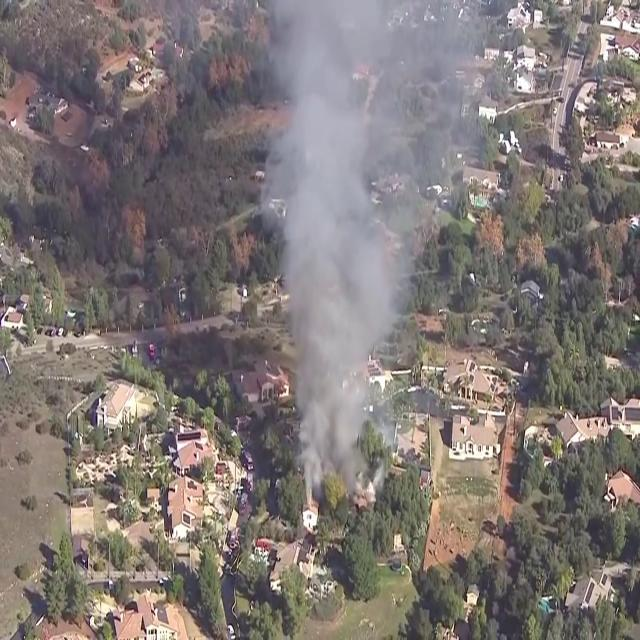Smoke: (251, 0, 498, 496)
